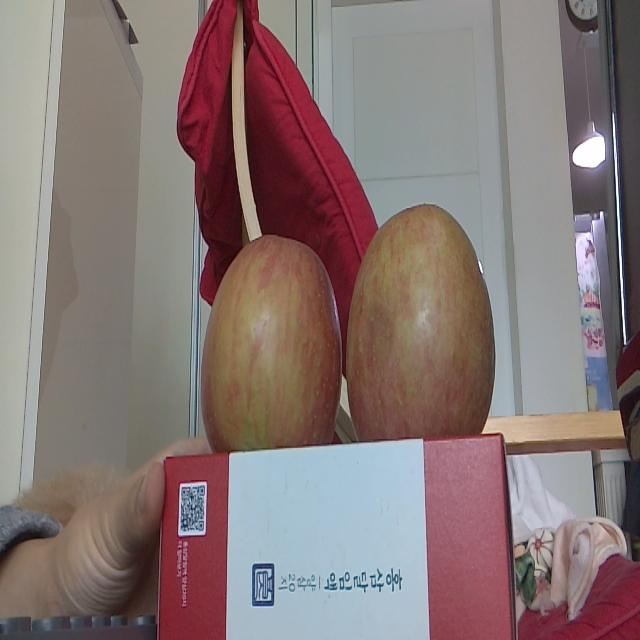apple: (348, 204, 496, 438), (201, 235, 342, 447)
